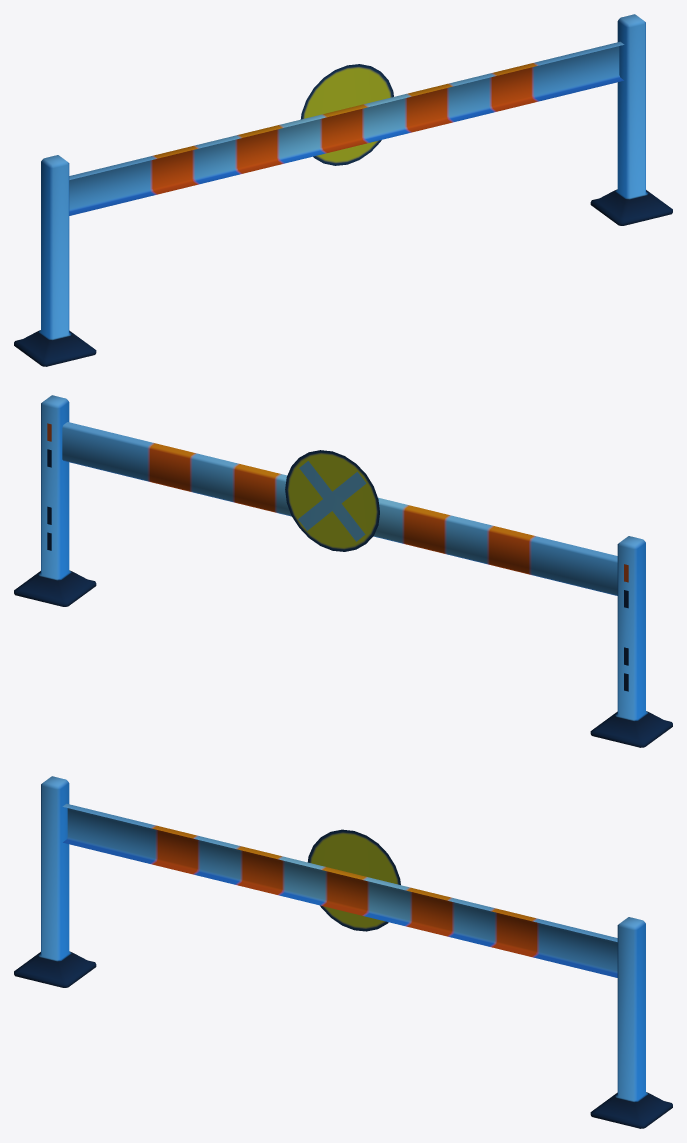
Rendered from RoadWorksBarrierHighNight.fbx.
The picture shows the model from 3 angles, top to bottom: view 1: azimuth 30°, elevation 25°; view 2: azimuth 150°, elevation 25°; view 3: azimuth 330°, elevation 25°; orthographic projection.
Parts seen in each view (by area): view 1: RoadWorksBarrierHighNight; view 2: RoadWorksBarrierHighNight; view 3: RoadWorksBarrierHighNight.
Part boxes in pixels (x1=…): RoadWorksBarrierHighNight: x1=14, y1=14, x2=672, y2=366; RoadWorksBarrierHighNight: x1=14, y1=395, x2=672, y2=747; RoadWorksBarrierHighNight: x1=14, y1=776, x2=672, y2=1128.
Size of the model in its own units: 497 by 158 by 42.57.
